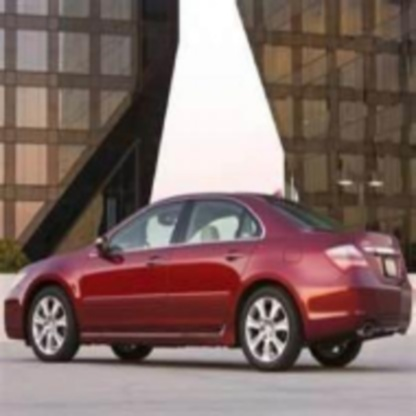Vehicle: (3, 192, 414, 377)
